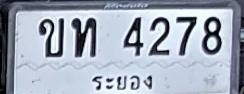2: (148, 16, 170, 56)
4: (123, 16, 143, 56)
7: (176, 16, 197, 56)
8: (202, 15, 222, 54)
A02: (38, 17, 64, 57)
A23: (72, 17, 96, 57)
RYG: (85, 70, 156, 94)
